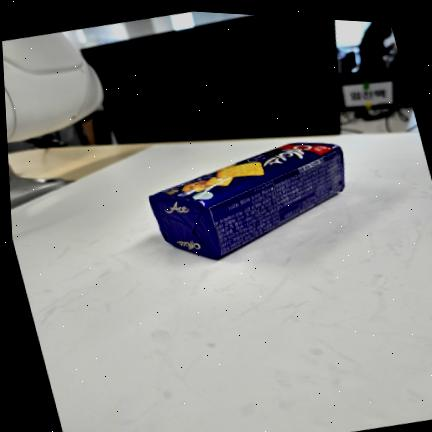cracker_ace: (150, 142, 344, 259)
